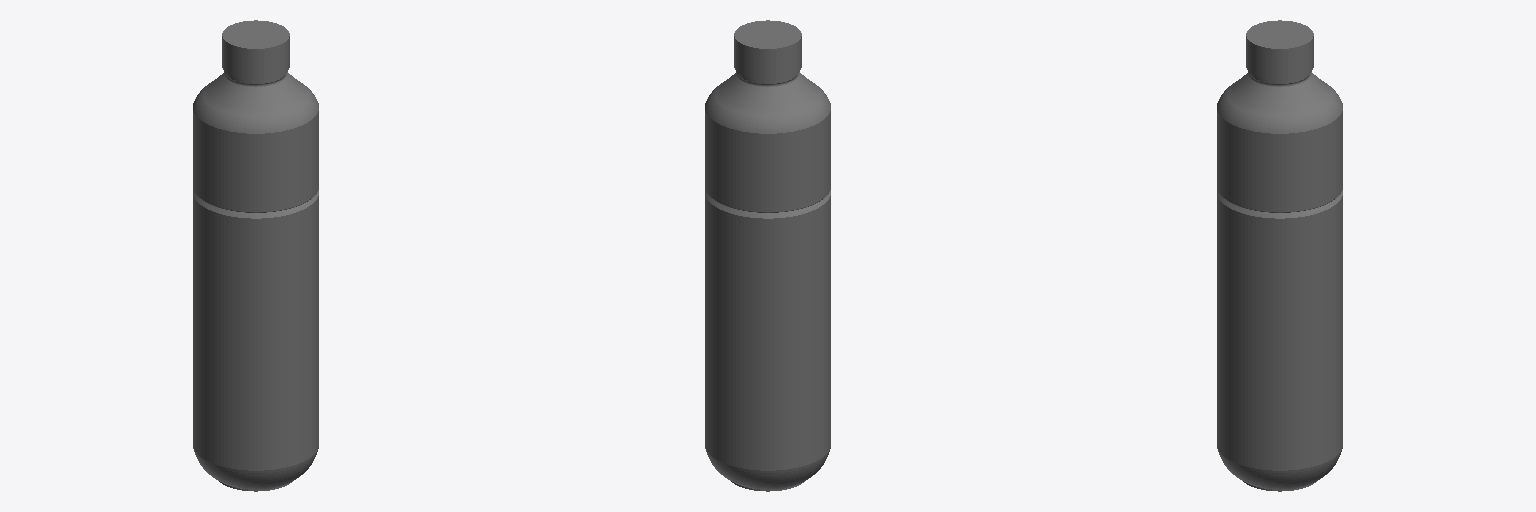
The robot description file, URDF, robot "object":
<?xml version="1.0"?>
<robot name="object">
  <link name="object">
    <visual>
      <origin xyz="0 0 0"/>
      <geometry>
        <mesh
          filename="../../mesh/oakink_virtual/cylinder_bottle_s420.stl" />
      </geometry>
      <material name="mat">
        <color rgba="0.5 0.5 0.5 1"/>
      </material>
    </visual>

    <collision>
      <origin xyz="0 0 0"/>
      <geometry>
        <mesh
          filename="../../mesh/oakink_virtual/cylinder_bottle_s420.stl" />
      </geometry>
    </collision>
  </link>
</robot>

--- Facts derived from the render (not from the file) ---
Views: 3 orthographic renders of the robot side by side, from view 1: azimuth 30°, elevation 25°; view 2: azimuth 150°, elevation 25°; view 3: azimuth 270°, elevation 25°.
Model object with 1 links and 0 joints (none), rooted at object, posed all joints at 0.
Links seen in each view (by area): view 1: object; view 2: object; view 3: object.
Link boxes in pixels (x1,y1,x2,y2): object: (193, 20, 318, 491); object: (705, 20, 830, 491); object: (1217, 20, 1342, 491).
Bounding box of the posed robot: 0.0417 × 0.0417 × 0.1599 m (x, y, z).
1 mesh visuals loaded from 1 distinct referenced files (1 binary STL).